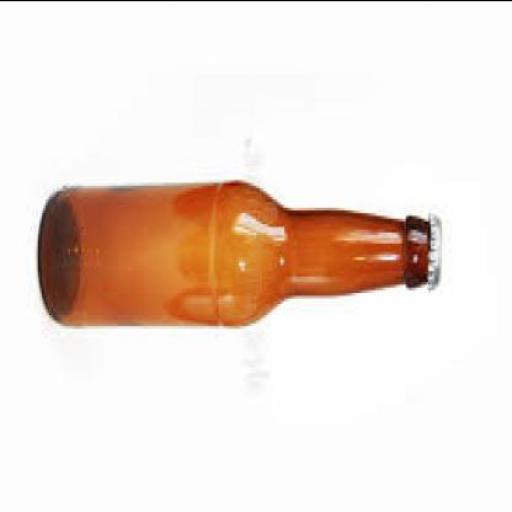glass: (38, 184, 432, 330)
metal: (428, 218, 446, 292)
